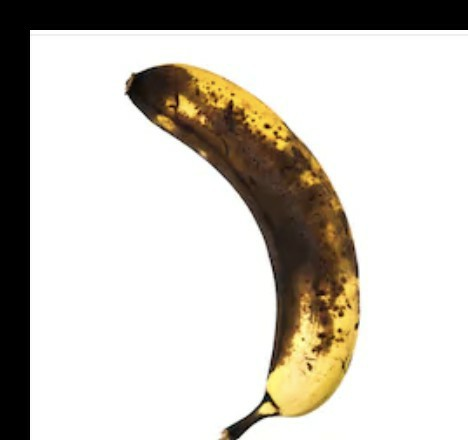rotten_banana: (127, 64, 365, 428)
